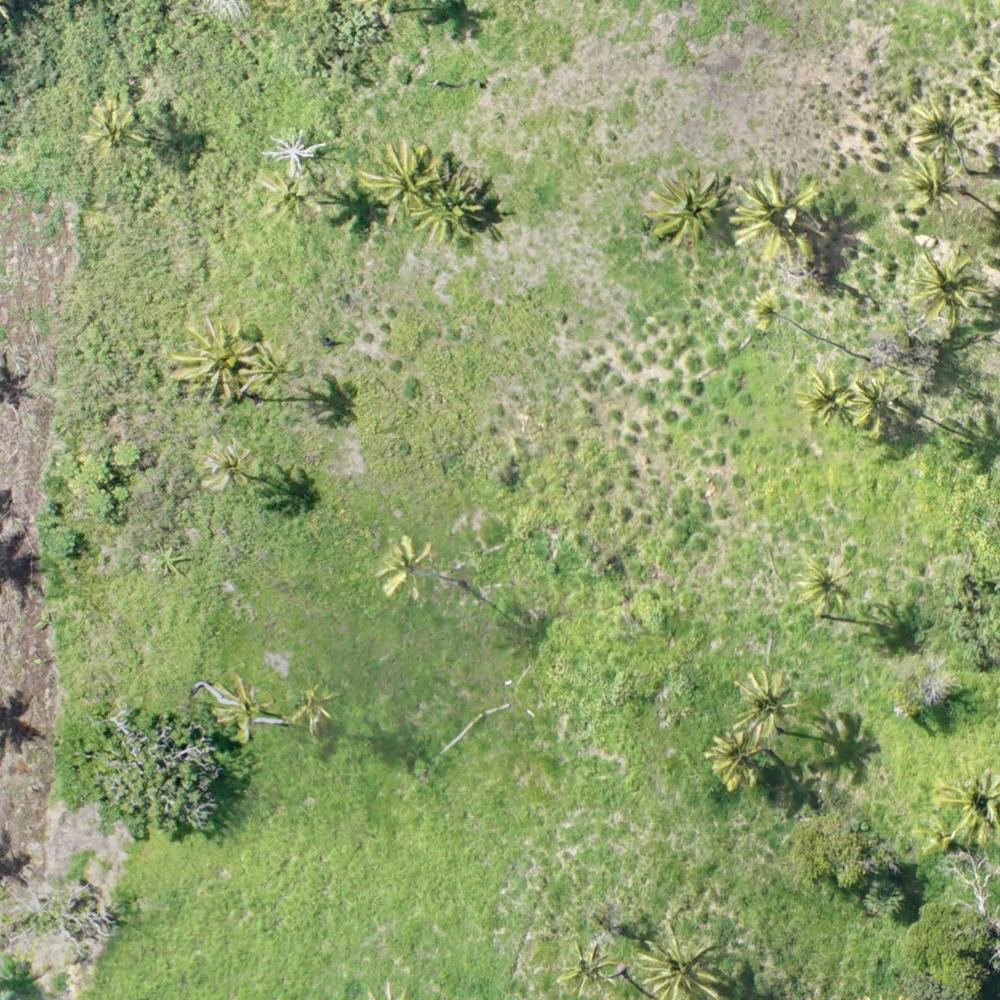Palm: (736, 165, 826, 257), (637, 917, 732, 1000), (173, 317, 254, 399), (911, 244, 991, 325), (411, 164, 493, 241), (650, 171, 725, 249), (932, 762, 1000, 846), (364, 143, 441, 212), (907, 94, 974, 165), (252, 169, 329, 229), (736, 668, 799, 738), (375, 535, 442, 599), (214, 673, 274, 744), (552, 934, 622, 991), (897, 158, 959, 218), (195, 435, 259, 493), (705, 732, 764, 794), (792, 556, 855, 614), (83, 100, 145, 155), (801, 366, 856, 426), (851, 378, 905, 430), (241, 346, 296, 394), (295, 689, 347, 735), (742, 289, 787, 336)
